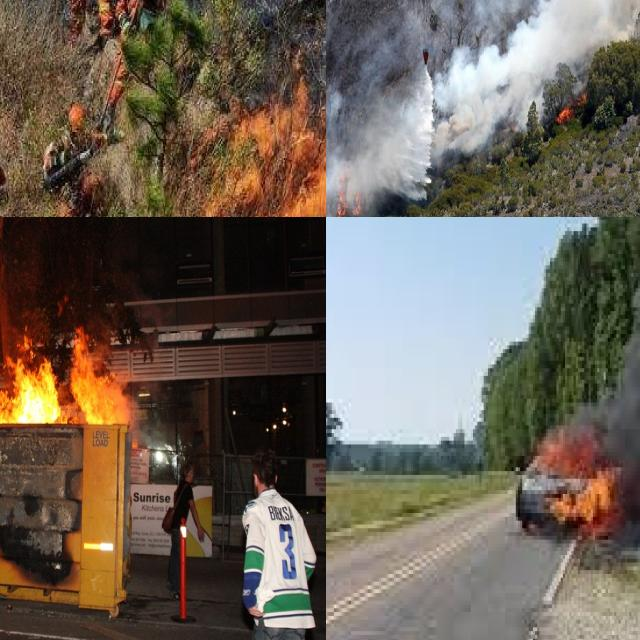fire: (0, 244, 121, 428), (178, 67, 326, 217), (520, 418, 634, 540), (326, 167, 369, 217), (556, 83, 590, 123)
smoke: (326, 0, 640, 217)
